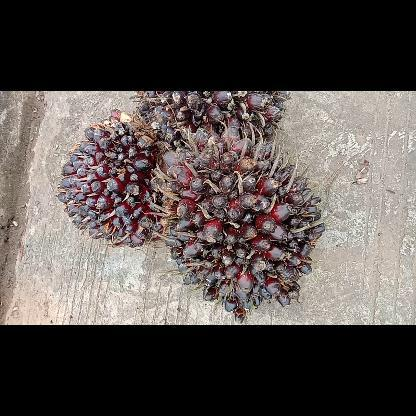TBS mentah: (155, 126, 329, 324), (53, 108, 182, 248), (129, 92, 293, 152)
